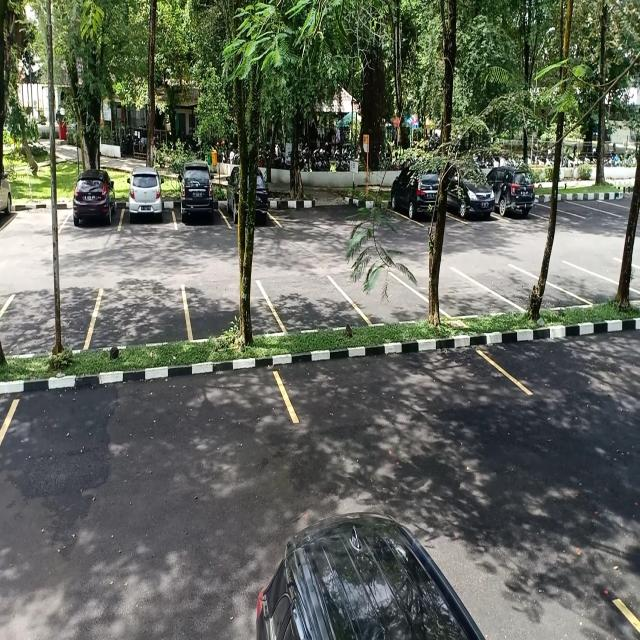empty: (3, 369, 288, 462), (282, 348, 506, 429), (2, 285, 94, 352), (96, 283, 186, 346), (186, 274, 272, 334), (270, 271, 348, 332), (348, 271, 426, 326), (423, 269, 493, 321), (490, 264, 556, 314), (4, 194, 65, 240), (552, 262, 610, 305)
occupied: (175, 170, 224, 231), (121, 181, 175, 234), (66, 183, 120, 235)
